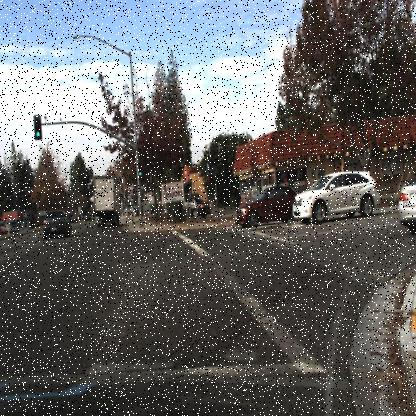car: (284, 156, 385, 234), (230, 178, 293, 230), (398, 176, 416, 238), (179, 191, 215, 222), (43, 208, 71, 242), (79, 207, 93, 227)
trafficLight-Green: (130, 166, 146, 188), (138, 165, 143, 180)
truck: (88, 172, 122, 236)
